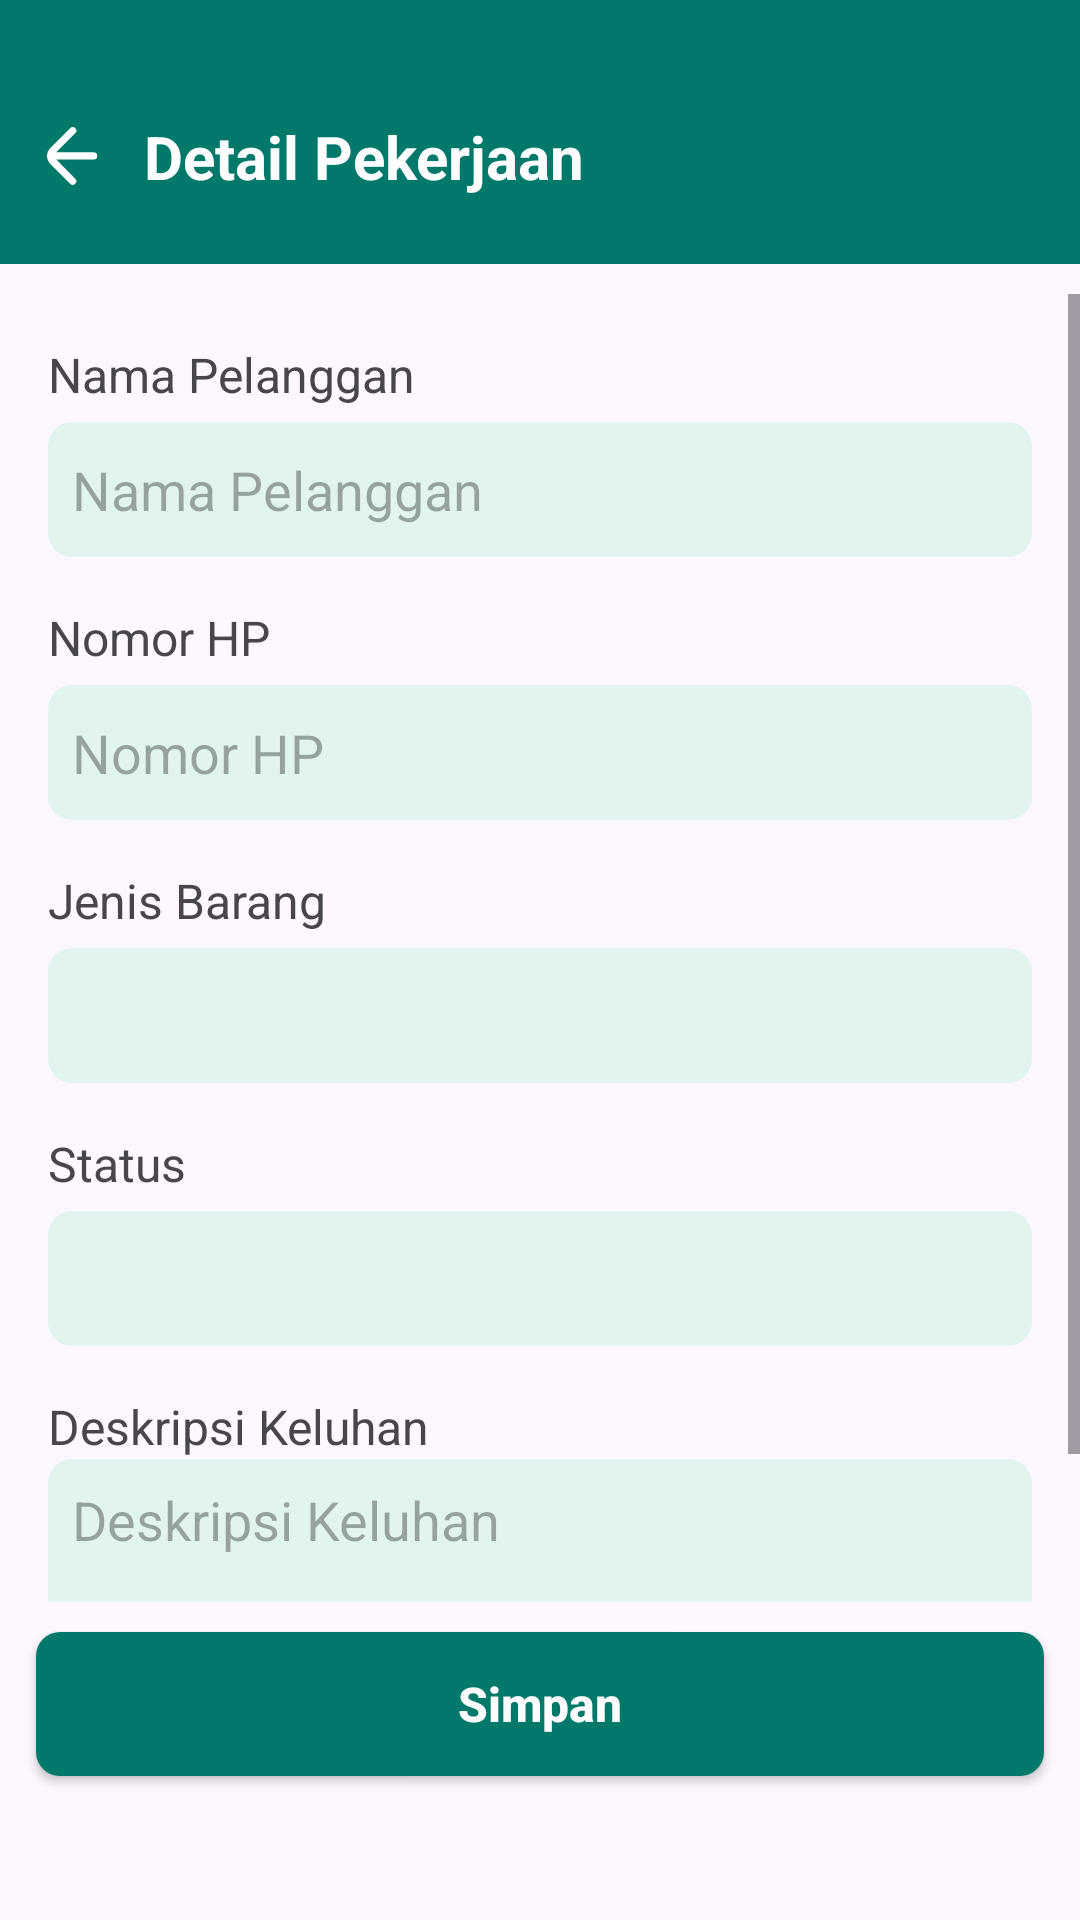

Where icons sit on this 1080 × 1920 app screen, as (x1, y1, x2, y2):
back arrow: (46, 127, 98, 185)
